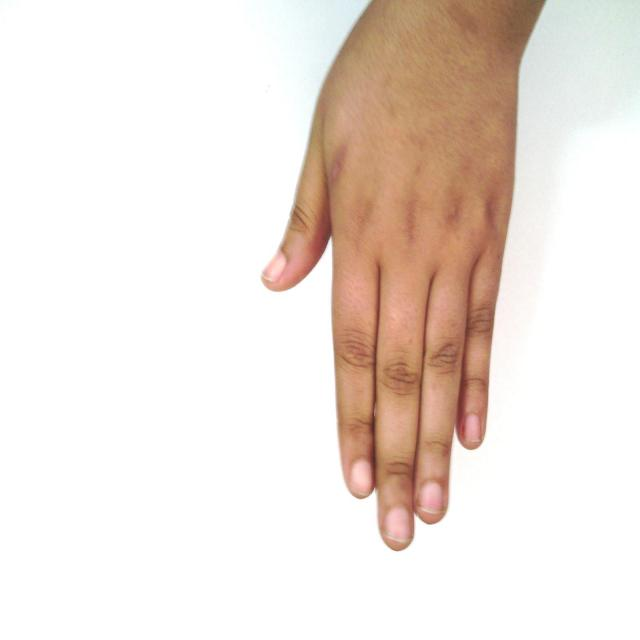others: (238, 0, 555, 549)
